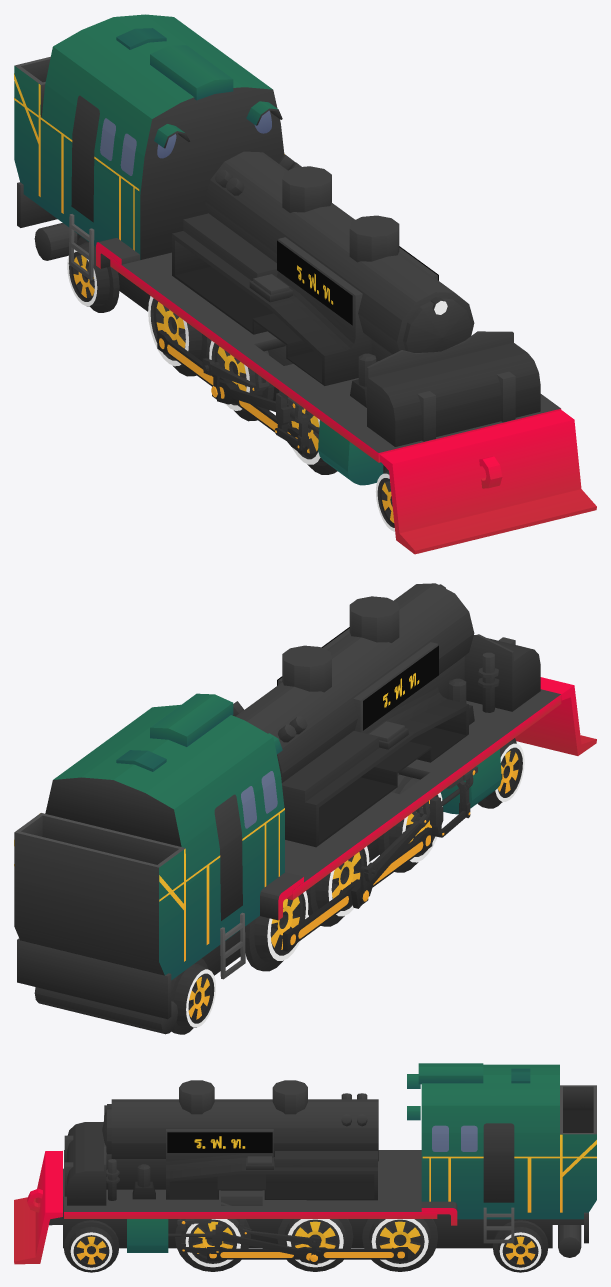
The model's file is train.glb.
The picture shows the model from 3 angles, top to bottom: view 1: azimuth 30°, elevation 25°; view 2: azimuth 150°, elevation 25°; view 3: azimuth 270°, elevation 25°; orthographic projection. The views are drawn at different scales.
Visible parts, largest first — view 1: Cube.015; view 2: Cube.015; view 3: Cube.015.
Part boxes in pixels (x1,y1,x2,y2): Cube.015: (14, 14, 596, 554); Cube.015: (14, 583, 596, 1034); Cube.015: (14, 1063, 596, 1272).
Bounding box in the file's own units: 15.79 × 22.5 × 62.78.
Materials: 1 (1 with a texture image).
